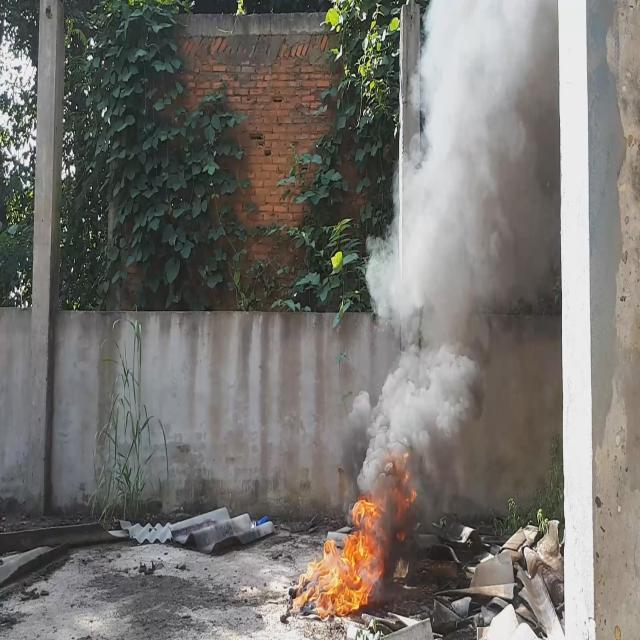Fire: (290, 488, 384, 618)
Smoke: (351, 0, 545, 496)
